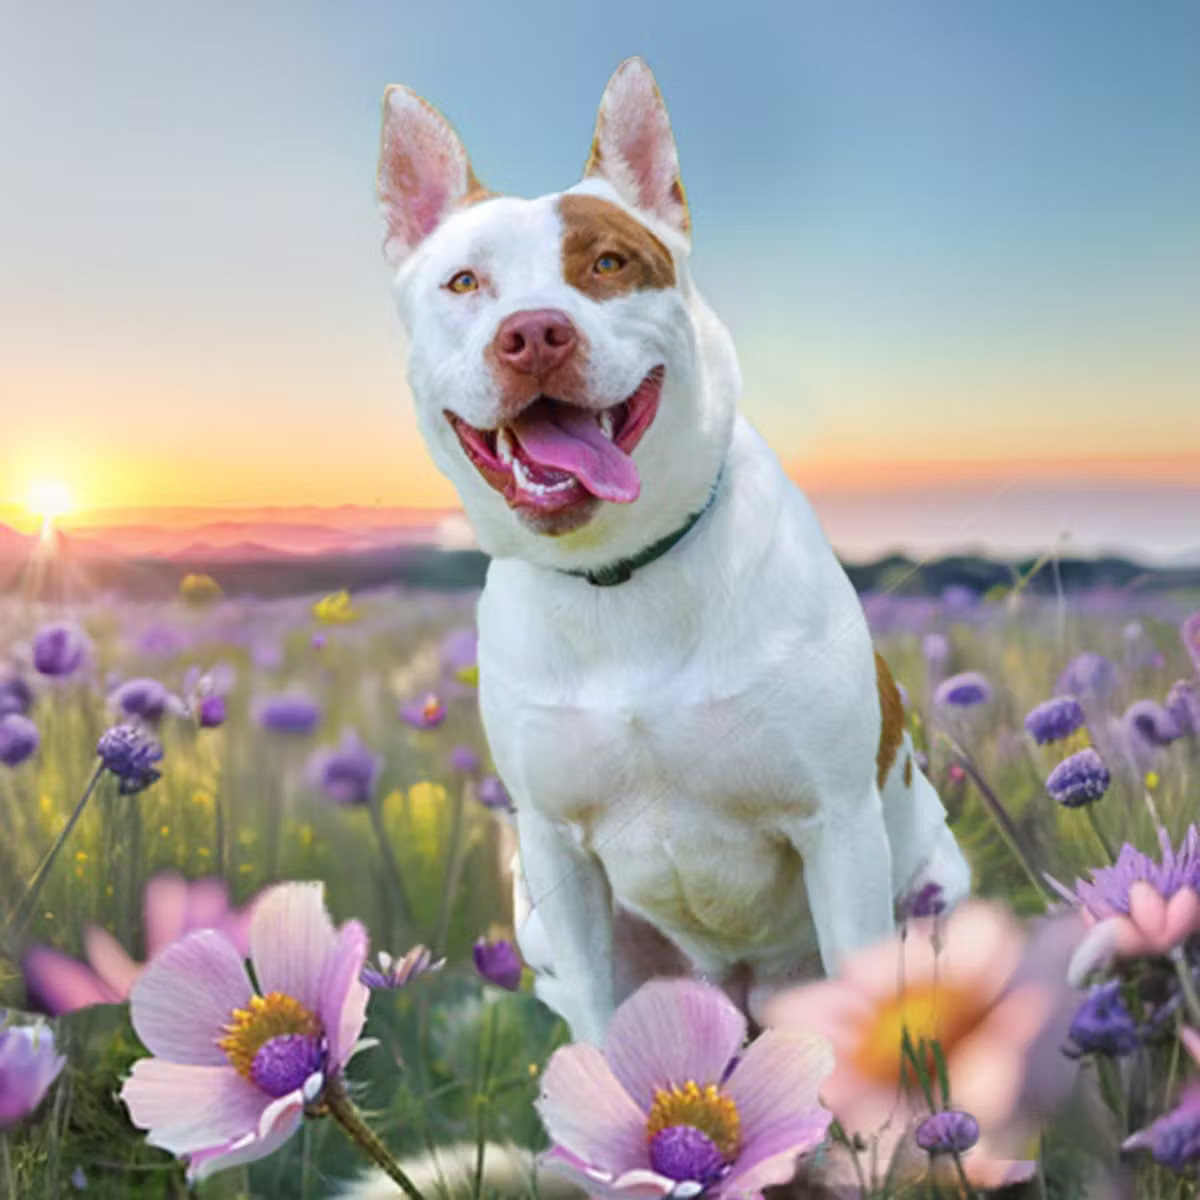dog: (371, 53, 977, 1097)
